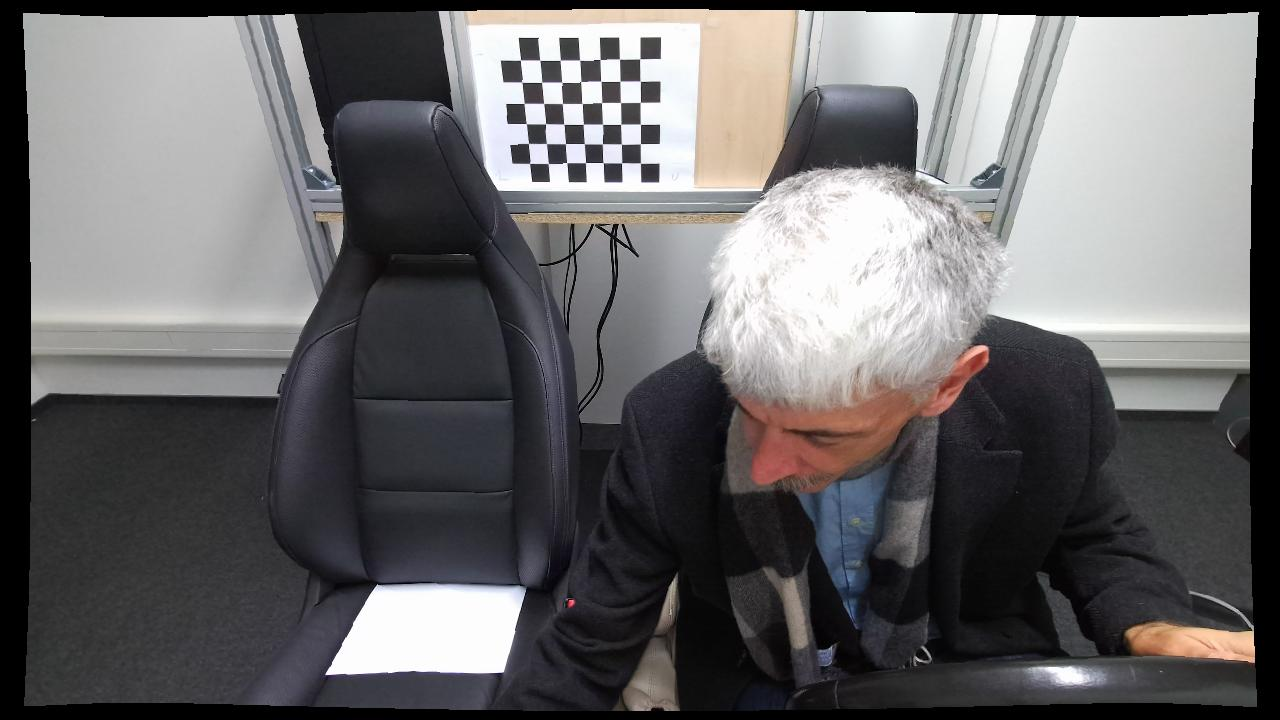Distracted: (484, 156, 1164, 713)
